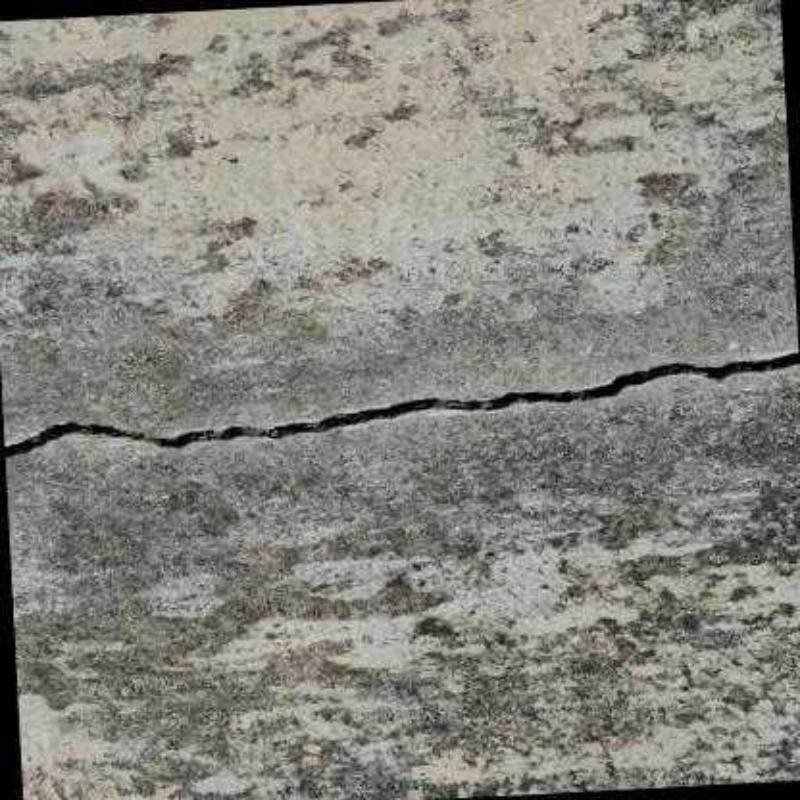pothole: (4, 351, 800, 462)
